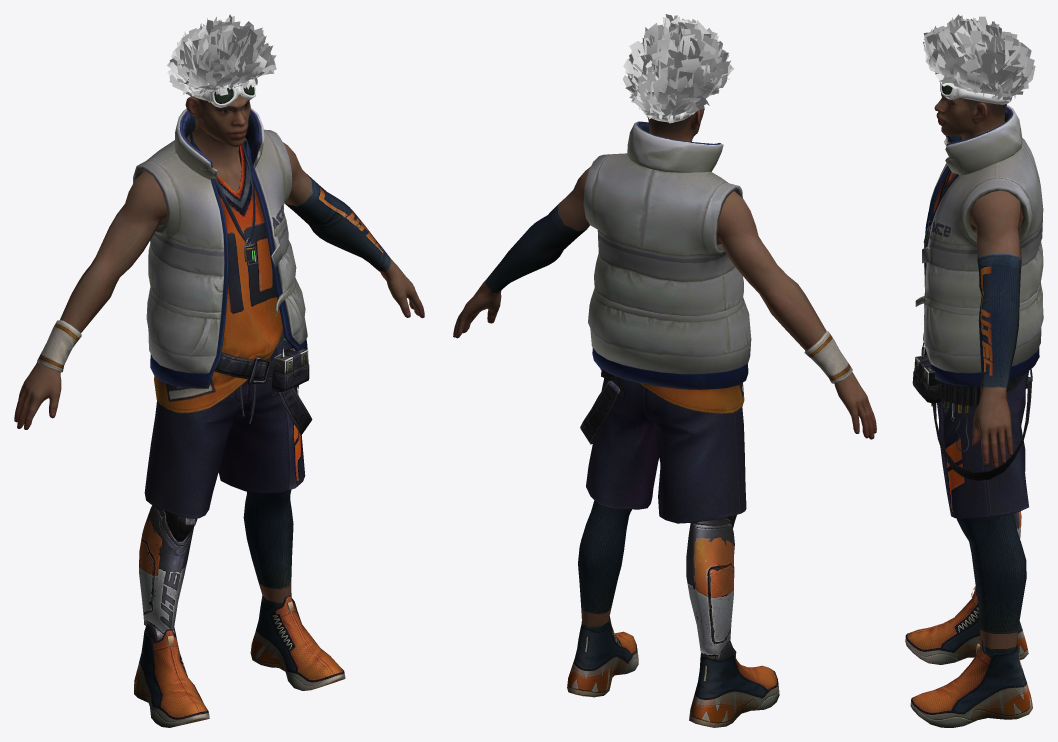
The model's file is leon.fbx.
The picture shows the model from 3 angles, left to right: view 1: azimuth 30°, elevation 25°; view 2: azimuth 150°, elevation 25°; view 3: azimuth 270°, elevation 25°; orthographic projection.
Visible parts, largest first — view 1: Object_3, Object_6, Object_9, Object_8, Object_4, Object_7; view 2: Object_3, Object_6, Object_9, Object_8, Object_4, Object_7; view 3: Object_3, Object_6, Object_8, Object_4, Object_9, Object_7, Object_5.
Part boxes in pixels (bbox=[...]): Object_3: bbox=[37, 107, 391, 435]; Object_6: bbox=[139, 330, 305, 641]; Object_9: bbox=[14, 120, 424, 602]; Object_8: bbox=[134, 595, 345, 727]; Object_4: bbox=[167, 14, 276, 96]; Object_7: bbox=[185, 94, 250, 147]; Object_3: bbox=[485, 121, 852, 444]; Object_6: bbox=[578, 378, 746, 659]; Object_9: bbox=[453, 139, 876, 626]; Object_8: bbox=[567, 616, 779, 727]; Object_4: bbox=[623, 14, 733, 123]; Object_7: bbox=[641, 106, 704, 140]; Object_3: bbox=[912, 105, 1043, 480]; Object_6: bbox=[931, 372, 1028, 655]; Object_8: bbox=[905, 586, 1032, 727]; Object_4: bbox=[923, 14, 1035, 101]; Object_9: bbox=[952, 120, 1023, 648]; Object_7: bbox=[934, 93, 1006, 136]; Object_5: bbox=[939, 81, 1012, 104].
Bounding box in the file's own units: 478 × 747 × 141.
Materials: 8 (6 with a texture image).
